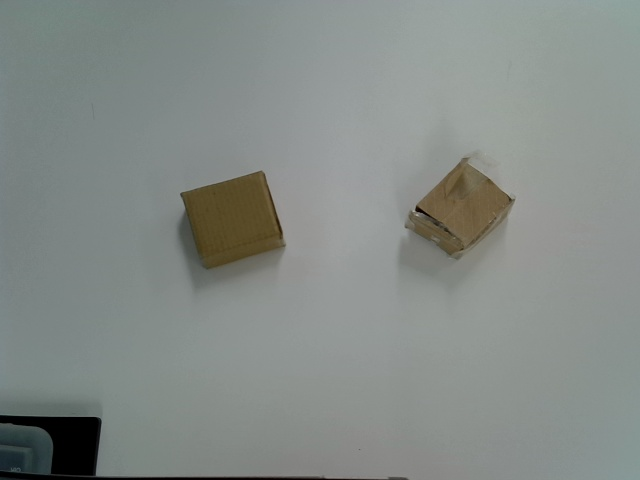defect: (406, 148, 515, 261)
normal: (180, 169, 290, 271)
